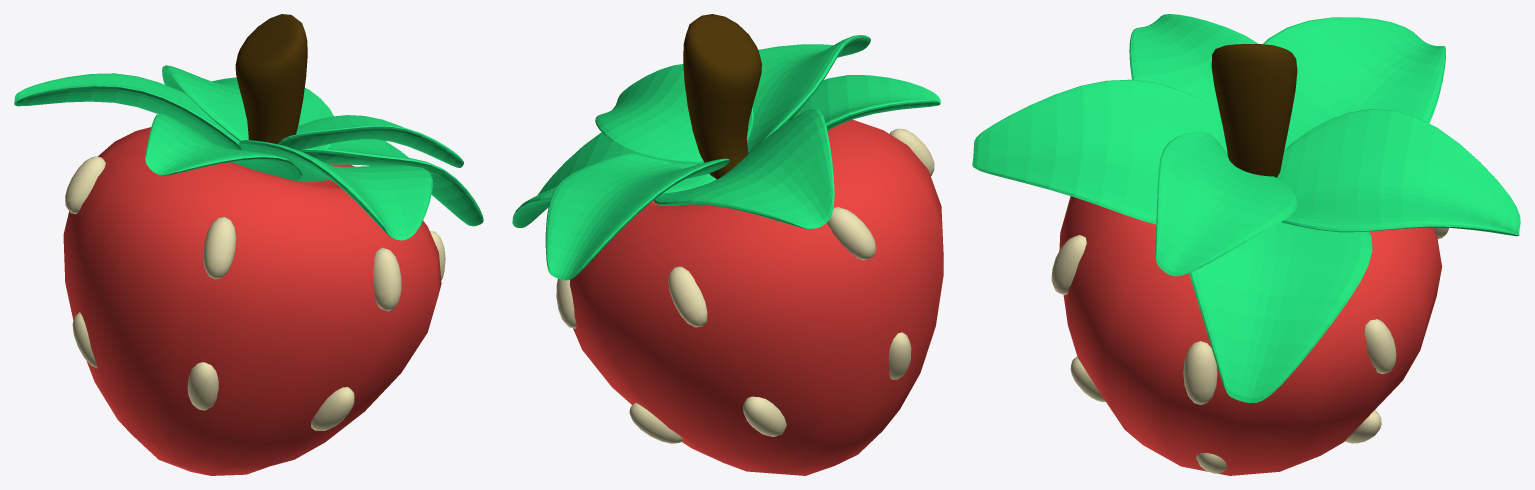
Rendered from strawberry unity.fbx.
The picture shows the model from 3 angles, left to right: view 1: azimuth 30°, elevation 25°; view 2: azimuth 150°, elevation 25°; view 3: azimuth 270°, elevation 25°; orthographic projection. The views are drawn at different scales.
Parts seen in each view (by area): view 1: seed; view 2: seed; view 3: seed.
Part boxes in pixels (x1,y1,x2,y2): seed: (14,14,483,475); seed: (512,14,943,475); seed: (972,14,1520,475).
Size of the model in its own units: 332 by 346 by 376.
